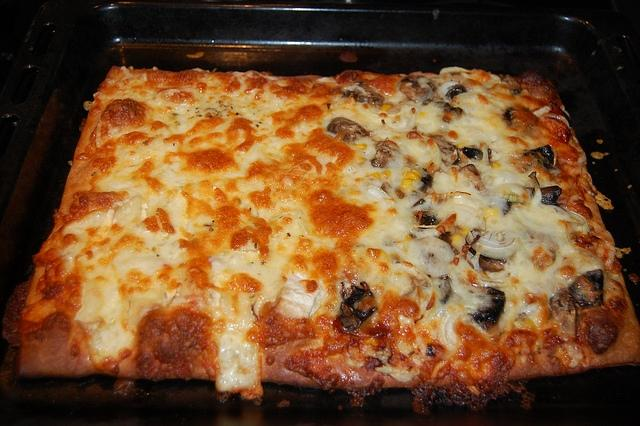mushroom: (338, 282, 376, 328), (464, 231, 506, 272), (473, 286, 506, 330), (570, 268, 604, 308), (327, 117, 370, 143), (428, 129, 459, 165), (342, 81, 385, 106), (400, 74, 437, 102), (524, 144, 558, 171), (521, 185, 562, 206), (458, 164, 485, 191), (432, 274, 452, 306), (434, 102, 462, 124), (369, 144, 392, 168), (528, 170, 542, 206), (438, 232, 459, 255), (444, 84, 467, 100), (462, 145, 483, 162), (420, 211, 438, 226), (419, 175, 433, 193), (504, 107, 514, 126), (502, 200, 511, 215)
onion: (273, 274, 325, 320), (438, 310, 462, 352), (528, 172, 542, 206), (438, 81, 458, 99), (532, 104, 552, 118)
